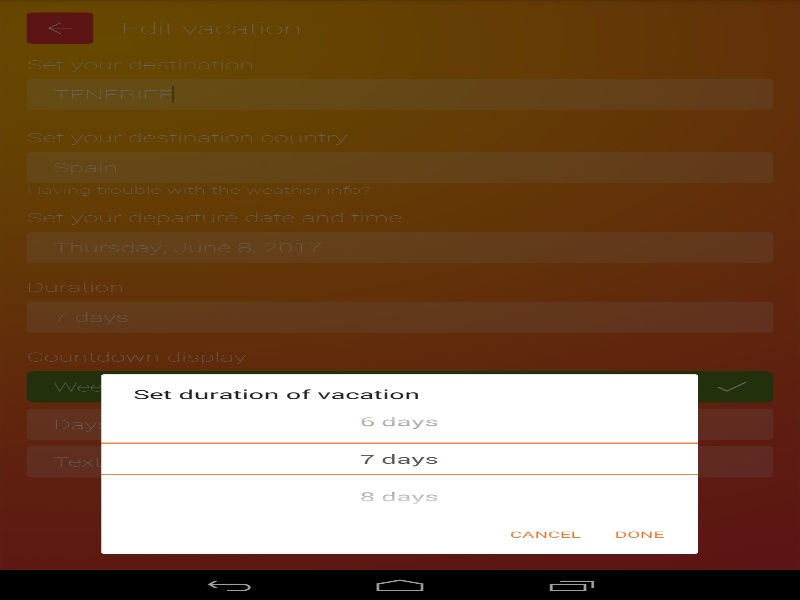Button: (101, 473, 698, 515), (101, 402, 698, 443), (494, 517, 596, 551), (596, 517, 682, 551)
Input: (101, 443, 698, 473)
